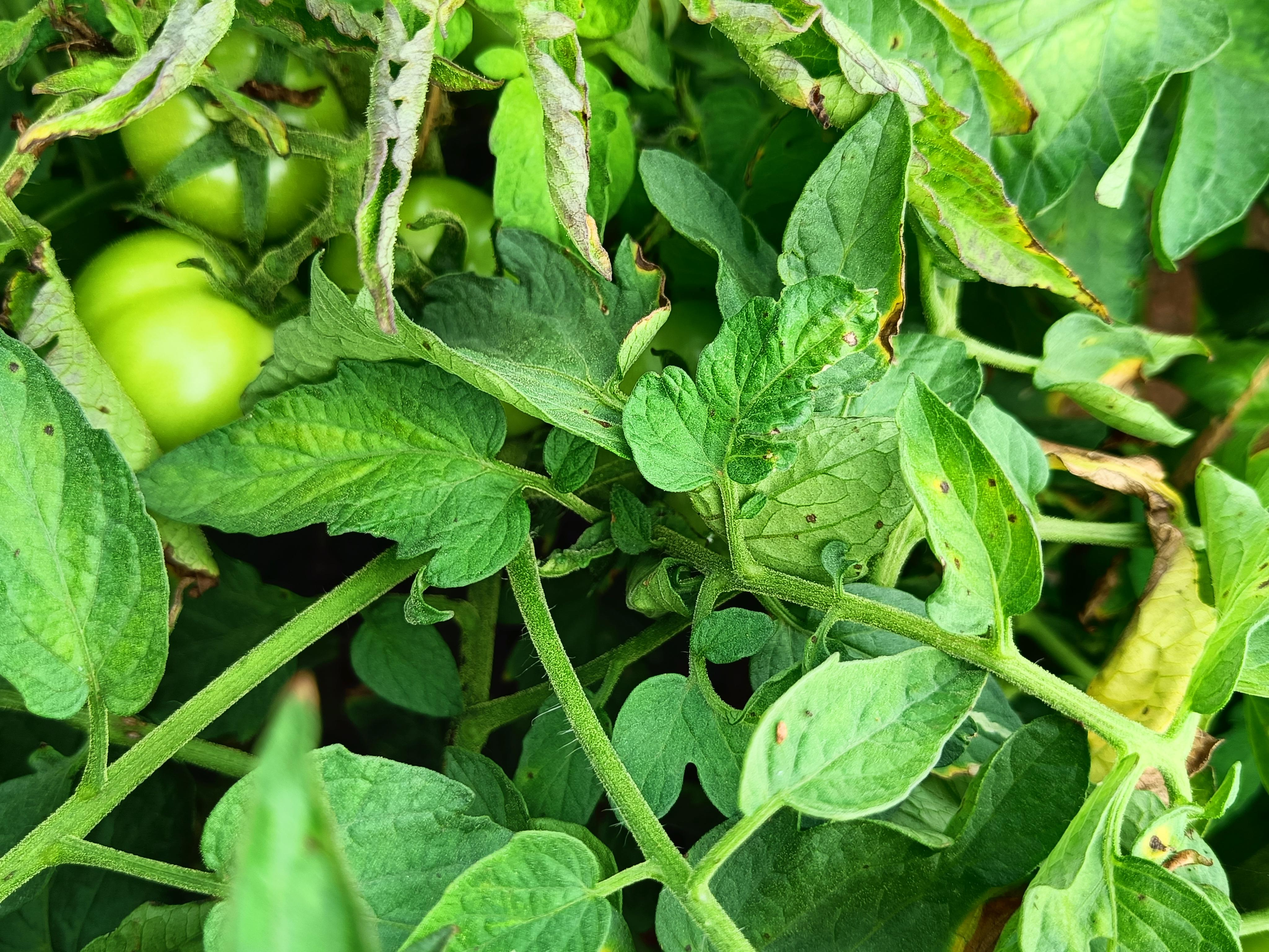Early Blight: (239, 227, 675, 458), (3, 335, 173, 719), (889, 372, 1048, 644), (775, 83, 918, 373)
Healthy: (141, 358, 534, 590)
